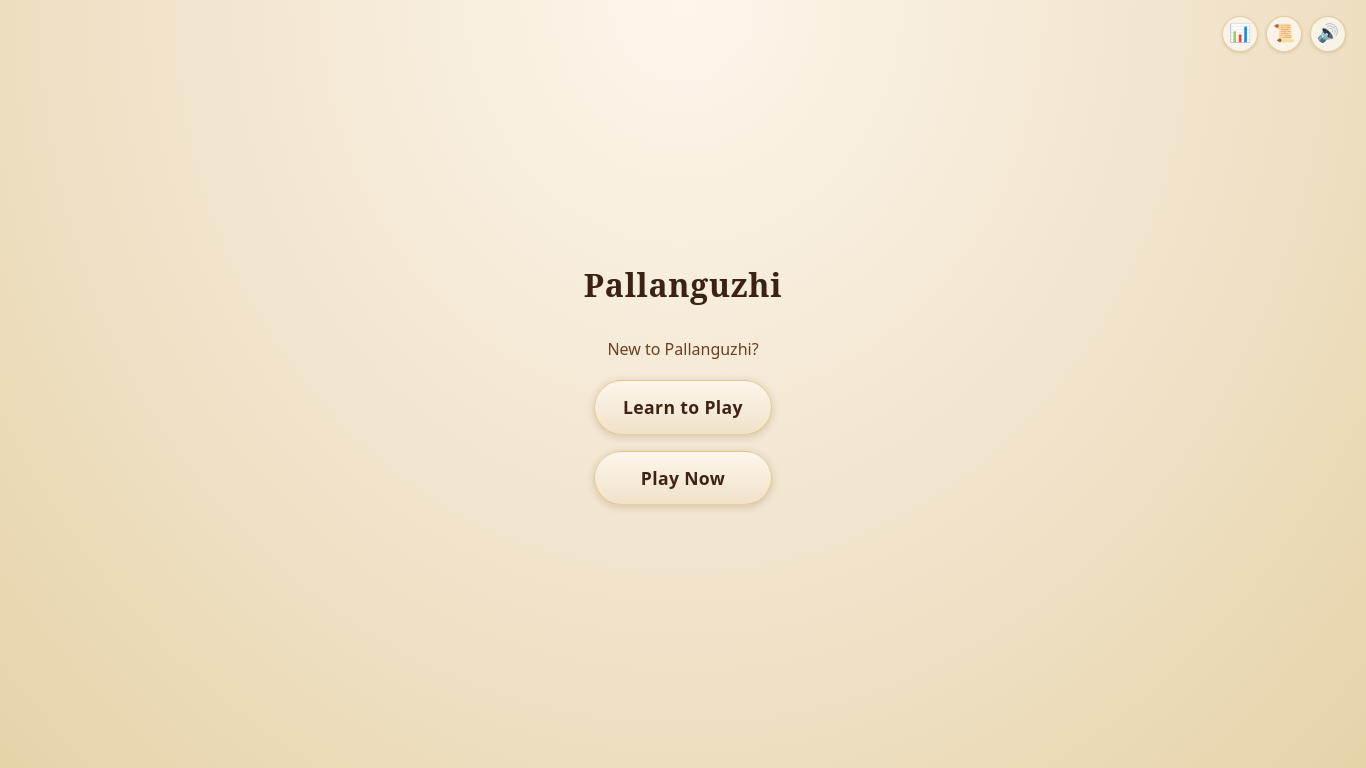
App › disables every pit immediately while the move animation is in progress
Click the button "Play Now".
click(683, 478)  # box [594, 450, 772, 505]
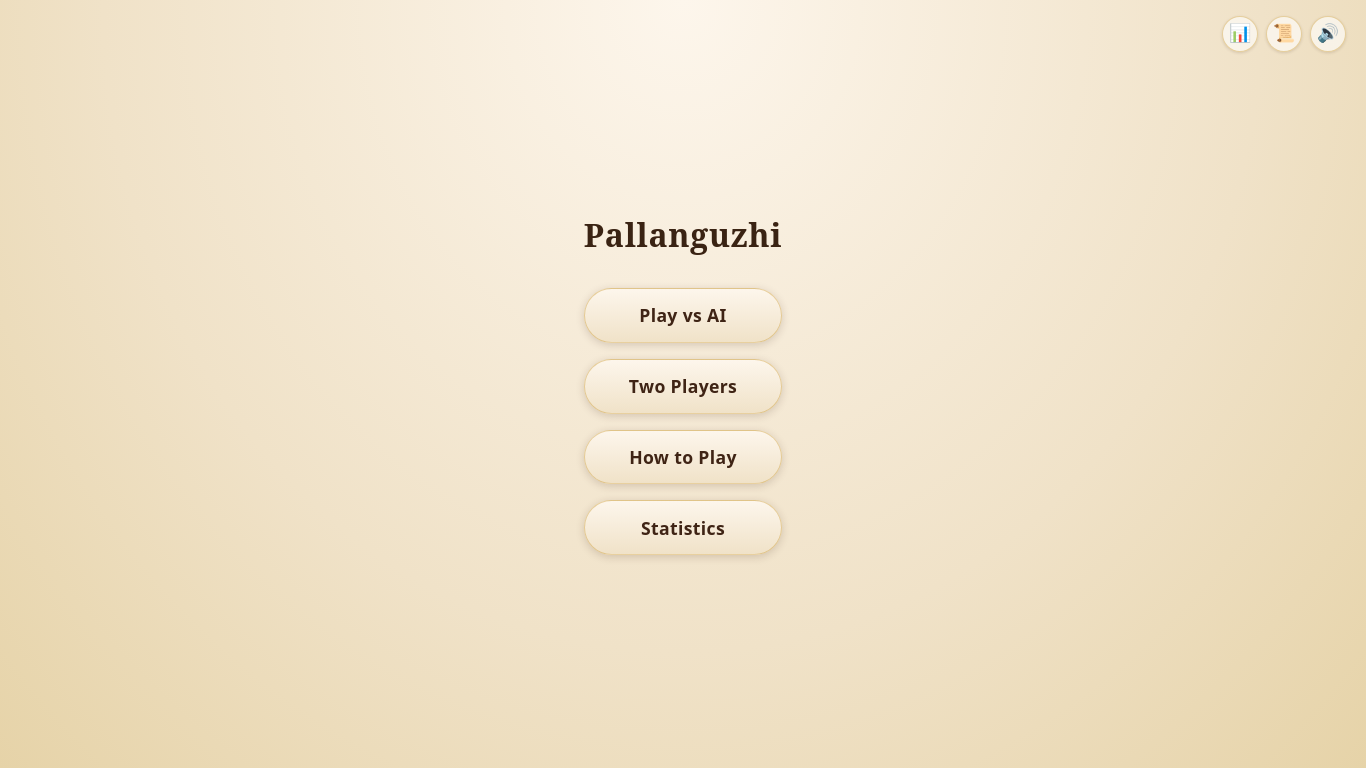
Click the button "Play vs AI".
click(683, 315)  # box [584, 288, 782, 343]
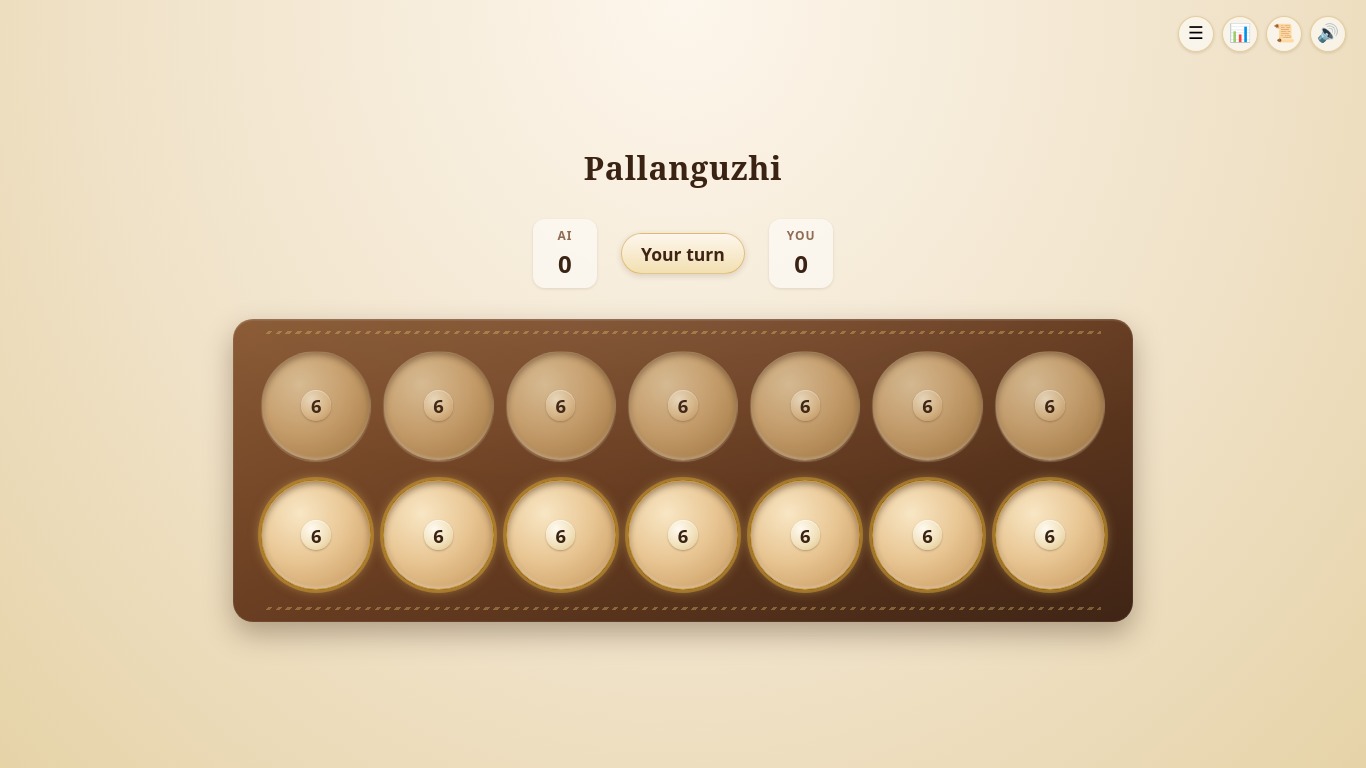
Click the button with test id "pit-7".
click(316, 535)  # box [261, 480, 371, 590]
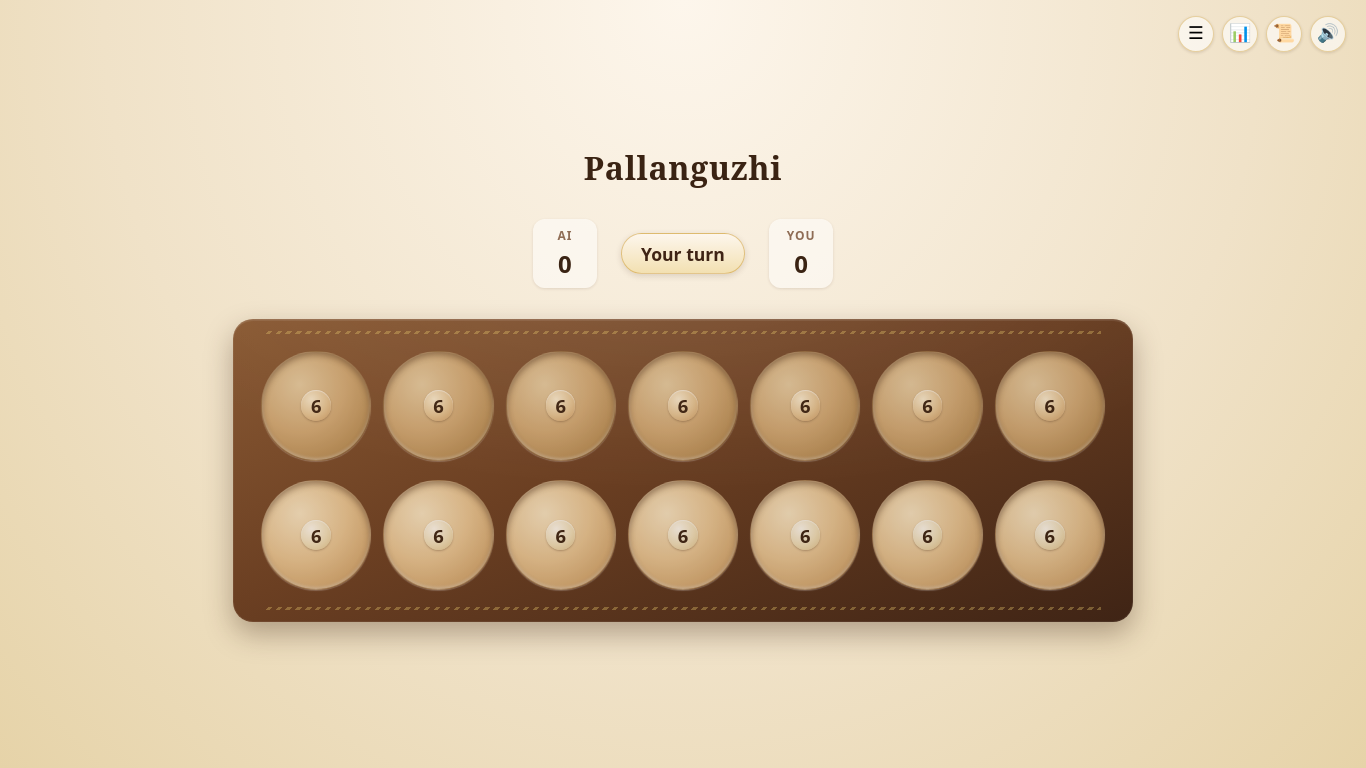
Result: the button with test id "pit-0" is disabled at [261, 350, 371, 461]
Result: the button with test id "pit-1" is disabled at [383, 350, 494, 461]
Result: the button with test id "pit-7" is disabled at [261, 480, 371, 590]
